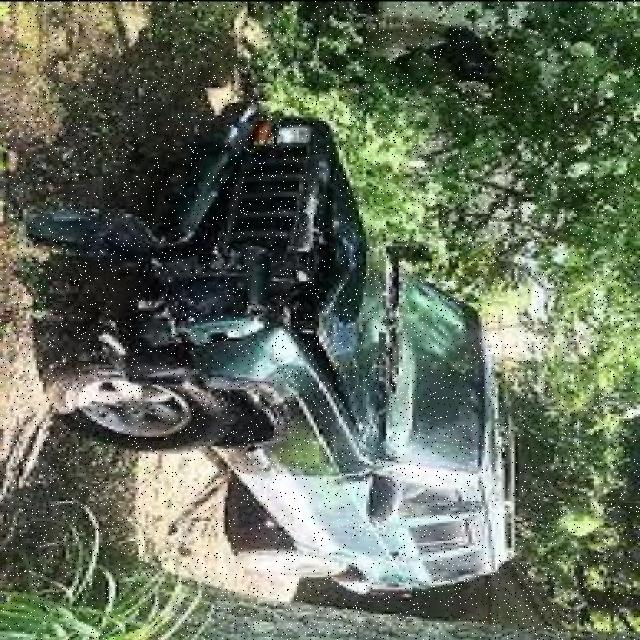damage: (25, 153, 359, 399)
